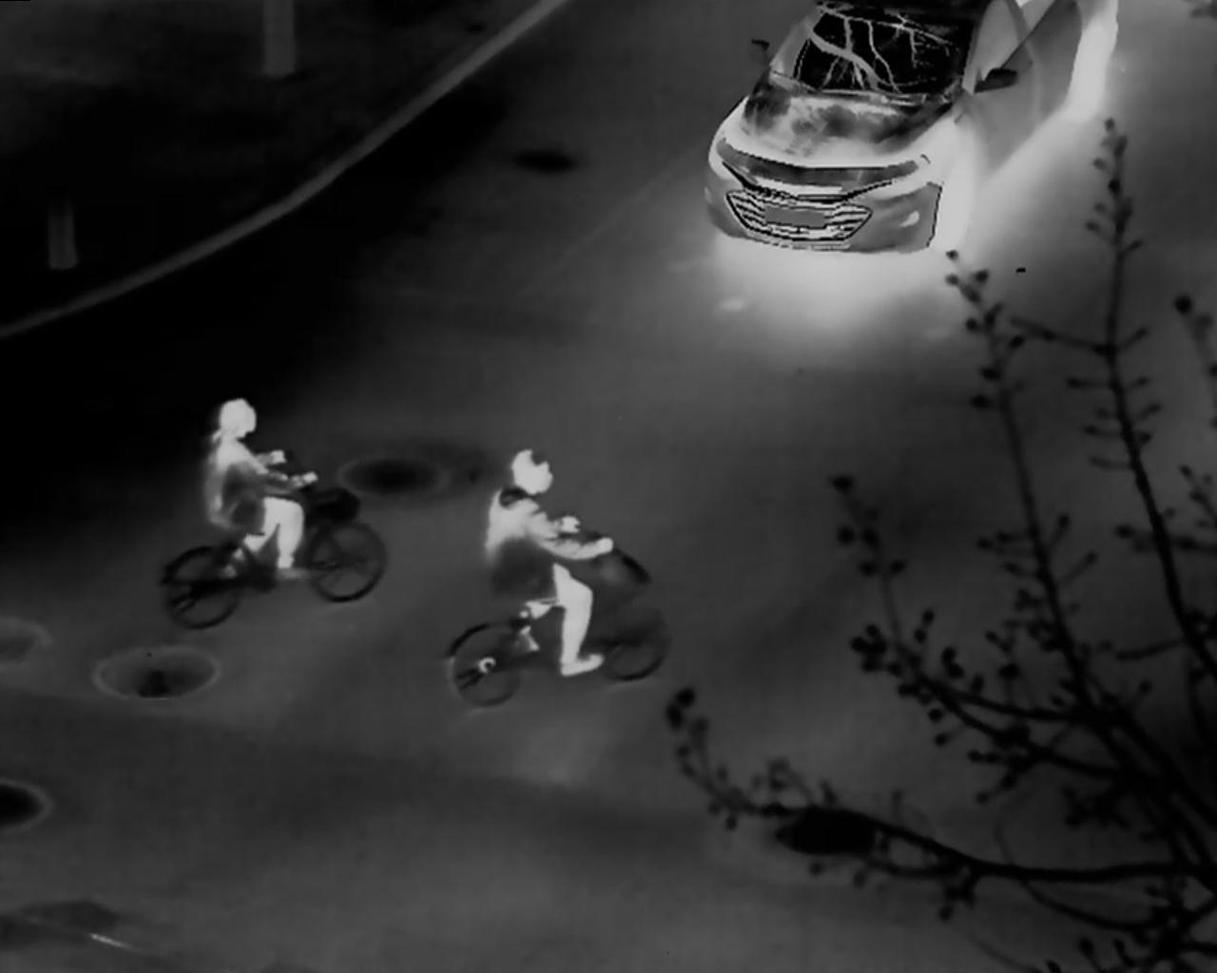person: (483, 448, 615, 678), (202, 397, 319, 582)
